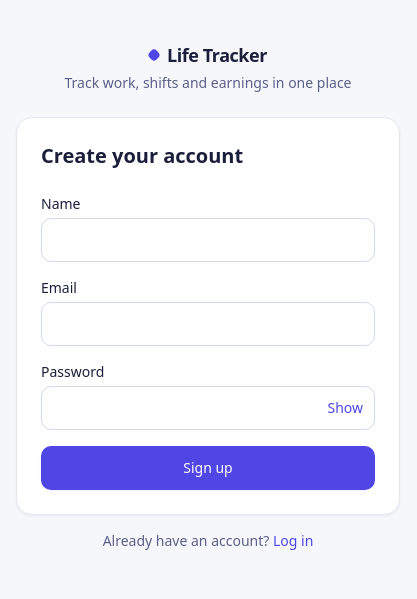
SignupPage › shows a generic message for any other failure
Type "Md Moinuddin" into the field labelled "Name".
click(208, 240); type("Md Moinuddin")  # box [41,218,375,262]
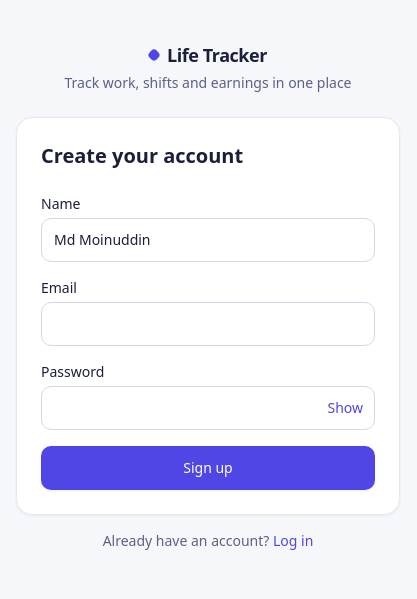
Type "md@example.com" into the field labelled "Email".
click(208, 324); type("md@example.com")  # box [41,302,375,346]
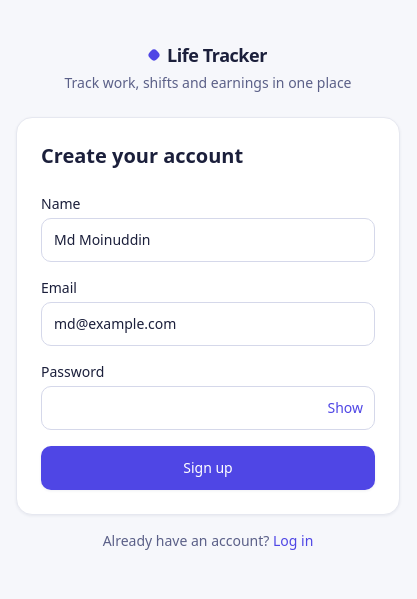
Type "Secret123" into the password field labelled "Password".
click(208, 408); type("Secret123")  # box [41,386,375,430]
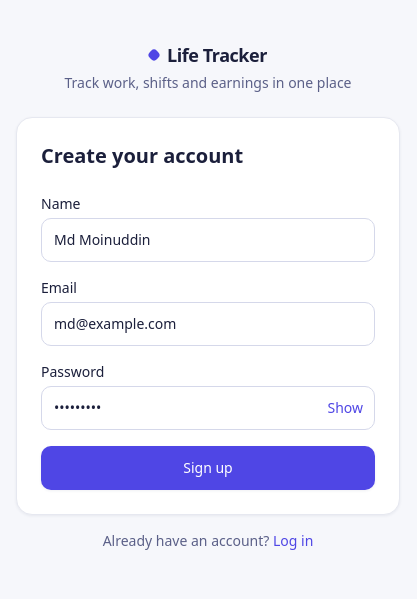
Click the button "Sign up".
click(208, 468)  # box [41,446,375,490]
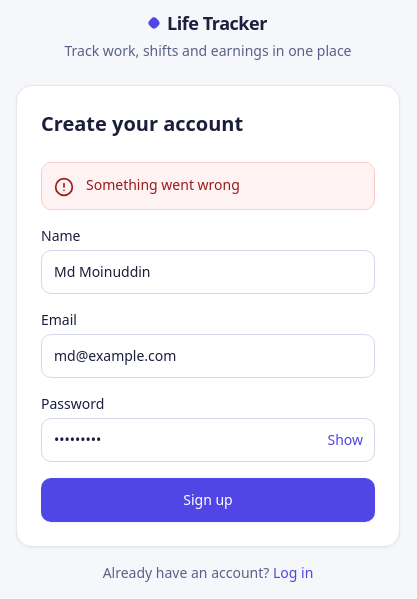
Expected: the text "Something went wrong" is shown, [86,175,240,197]
